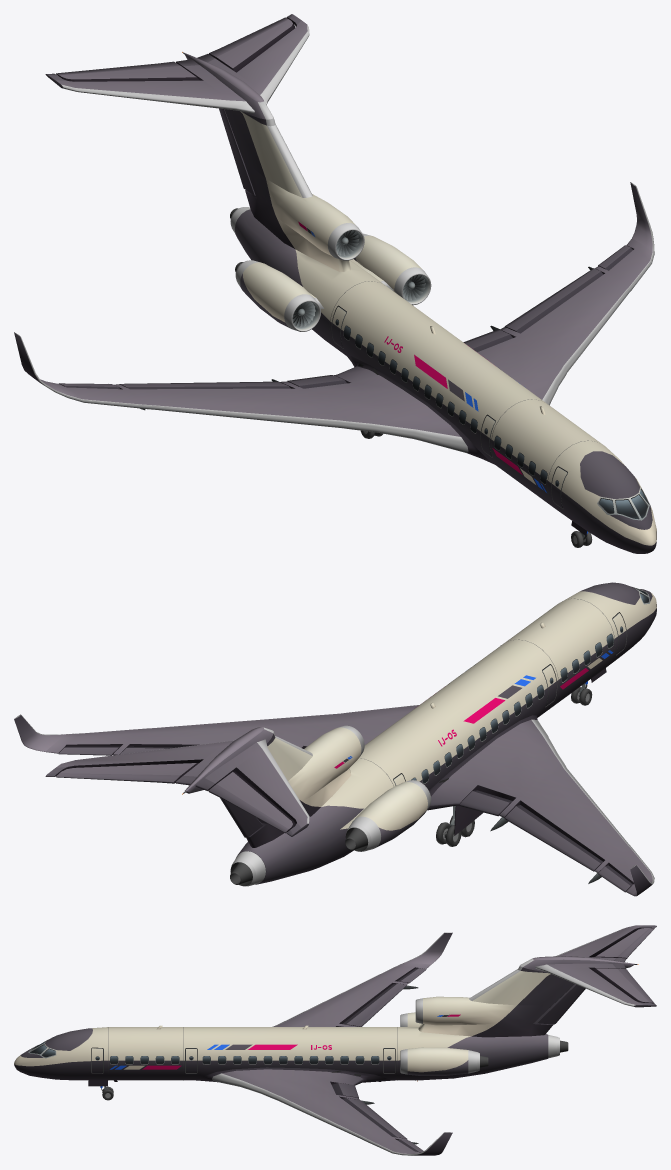
3 views of the same model, one above another, from view 1: azimuth 30°, elevation 25°; view 2: azimuth 150°, elevation 25°; view 3: azimuth 270°, elevation 25° (orthographic). The views are drawn at different scales.
Parts seen in each view (by area): view 1: Fuselage_Plane_5B, Elevator_5B_R.R, Elevator_5B_R.L, Flap_5B_F.L1, Flap_5B_F.R1, Livery_5B; view 2: Fuselage_Plane_5B, Elevator_5B_R.R, Elevator_5B_R.L, Flap_5B_F.R1, Livery_5B, Flap_5B_F.R2, Rudder_5B, Aileron_5B_F.L, Hatch_5B_R.R1; view 3: Fuselage_Plane_5B, Elevator_5B_R.L, Livery_5B, Flap_5B_F.R1, Elevator_5B_R.R, Rudder_5B, Flap_5B_F.L1.
Boxes of the visible parts, x1=… form: Fuselage_Plane_5B: x1=14, y1=14, x2=656, y2=553; Elevator_5B_R.R: x1=56, y1=61, x2=199, y2=81; Elevator_5B_R.L: x1=209, y1=17, x2=295, y2=72; Flap_5B_F.L1: x1=504, y1=268, x2=603, y2=333; Flap_5B_F.R1: x1=119, y1=381, x2=290, y2=389; Livery_5B: x1=298, y1=221, x2=546, y2=492; Fuselage_Plane_5B: x1=14, y1=582, x2=656, y2=896; Elevator_5B_R.R: x1=208, y1=771, x2=295, y2=833; Elevator_5B_R.L: x1=56, y1=763, x2=198, y2=783; Flap_5B_F.R1: x1=504, y1=805, x2=602, y2=871; Livery_5B: x1=334, y1=650, x2=613, y2=768; Flap_5B_F.R2: x1=459, y1=790, x2=512, y2=816; Rudder_5B: x1=220, y1=798, x2=262, y2=837; Aileron_5B_F.L: x1=58, y1=746, x2=120, y2=755; Hatch_5B_R.R1: x1=454, y1=805, x2=483, y2=835; Fuselage_Plane_5B: x1=14, y1=925, x2=656, y2=1155; Elevator_5B_R.L: x1=591, y1=968, x2=653, y2=1003; Livery_5B: x1=110, y1=1014, x2=460, y2=1069; Flap_5B_F.R1: x1=342, y1=983, x2=406, y2=1026; Elevator_5B_R.R: x1=593, y1=928, x2=654, y2=959; Rudder_5B: x1=535, y1=984, x2=585, y2=1024; Flap_5B_F.L1: x1=342, y1=1098, x2=406, y2=1138.
Size of the model in its own units: 3090 by 1021 by 4198.
